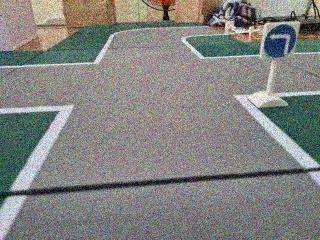left: (263, 22, 298, 59)
